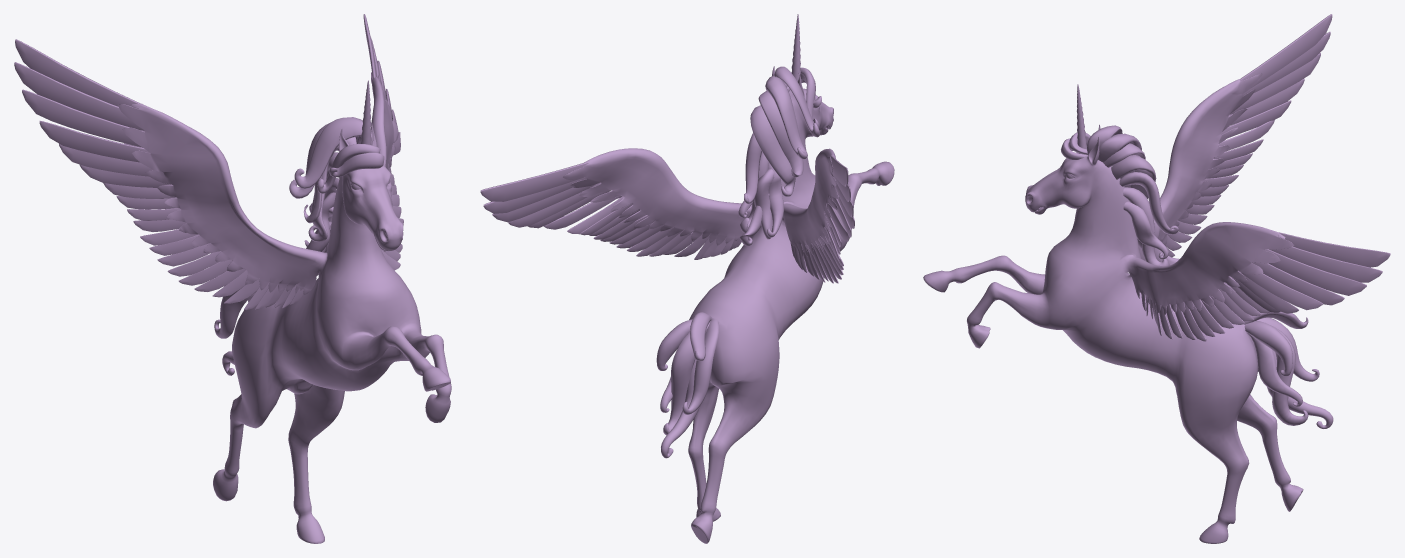
The model's file is unicorno.glb.
The picture shows the model from 3 angles, left to right: view 1: azimuth 30°, elevation 25°; view 2: azimuth 150°, elevation 25°; view 3: azimuth 270°, elevation 25°; orthographic projection. The views are drawn at different scales.
Size of the model in its own units: 1.56 by 2 by 1.9.
